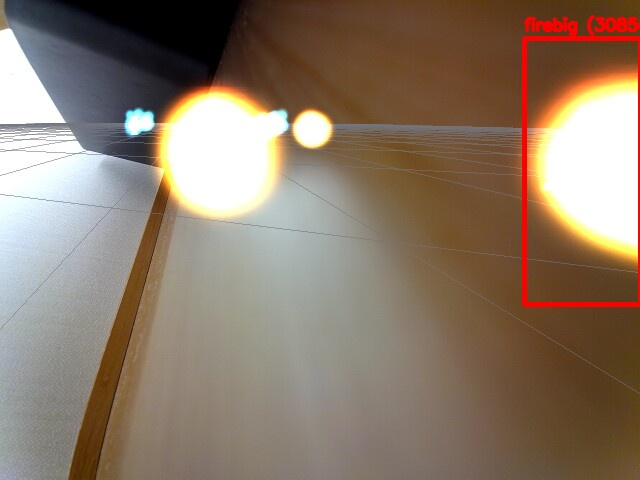firebig: (524, 38, 640, 304)
